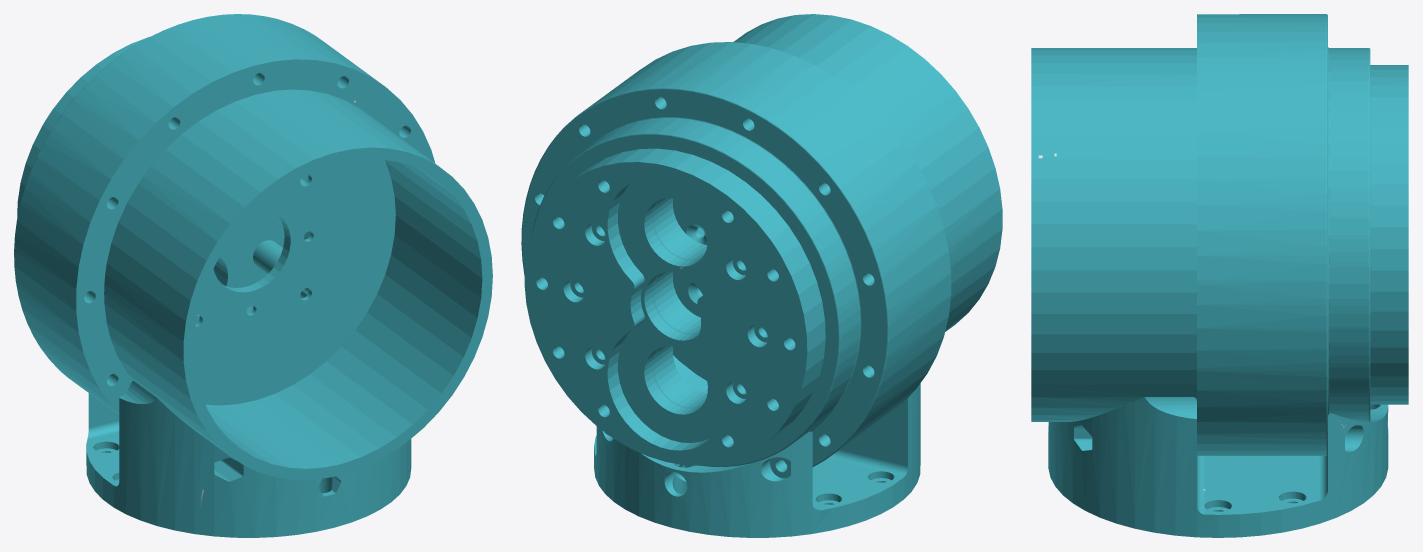
3 views of the same model, side by side, from view 1: azimuth 30°, elevation 25°; view 2: azimuth 150°, elevation 25°; view 3: azimuth 270°, elevation 25° (orthographic). The views are drawn at different scales.
Visible parts, largest first — view 1: link1; view 2: link1; view 3: link1.
Boxes of the visible parts, x1,y1,x2,y2 form: link1: (14, 14, 492, 537); link1: (521, 14, 1002, 537); link1: (1031, 14, 1408, 537).
Bounding box in the file's own units: 0.104 × 0.112 × 0.0888.
Materials: 1 (1 with a texture image).
